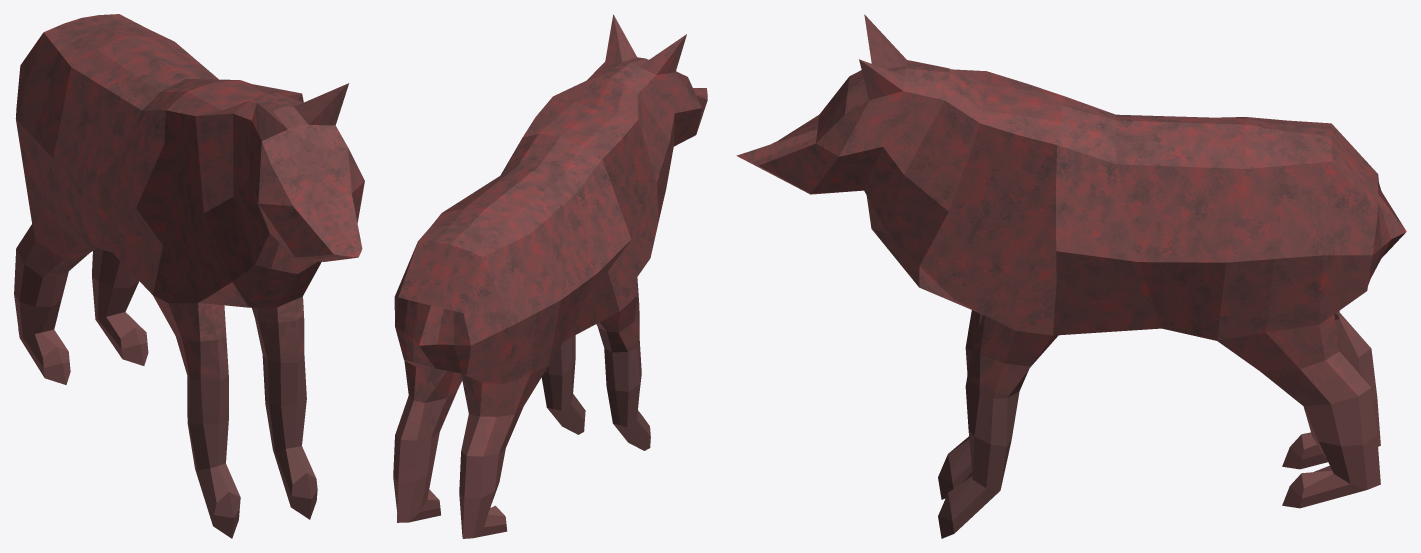
Rendered from piesblend_000004.obj.
3 renders of one model, left to right at view 1: azimuth 30°, elevation 25°; view 2: azimuth 150°, elevation 25°; view 3: azimuth 270°, elevation 25°, orthographic. The views are drawn at different scales.
Visible parts, largest first — view 1: Cube; view 2: Cube; view 3: Cube.
Boxes of the visible parts, x1=… form: Cube: x1=14, y1=14, x2=364, y2=538; Cube: x1=393, y1=14, x2=707, y2=538; Cube: x1=736, y1=14, x2=1406, y2=538.
Size of the model in its own units: 2.56 by 7.19 by 9.11.
Materials: 1 (1 with a texture image).
